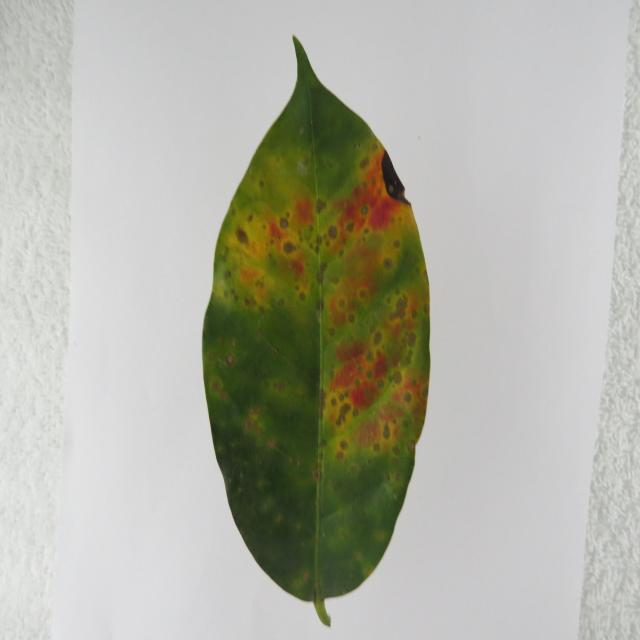DeficienciaNutricional-Fosforo: (202, 38, 430, 625)
